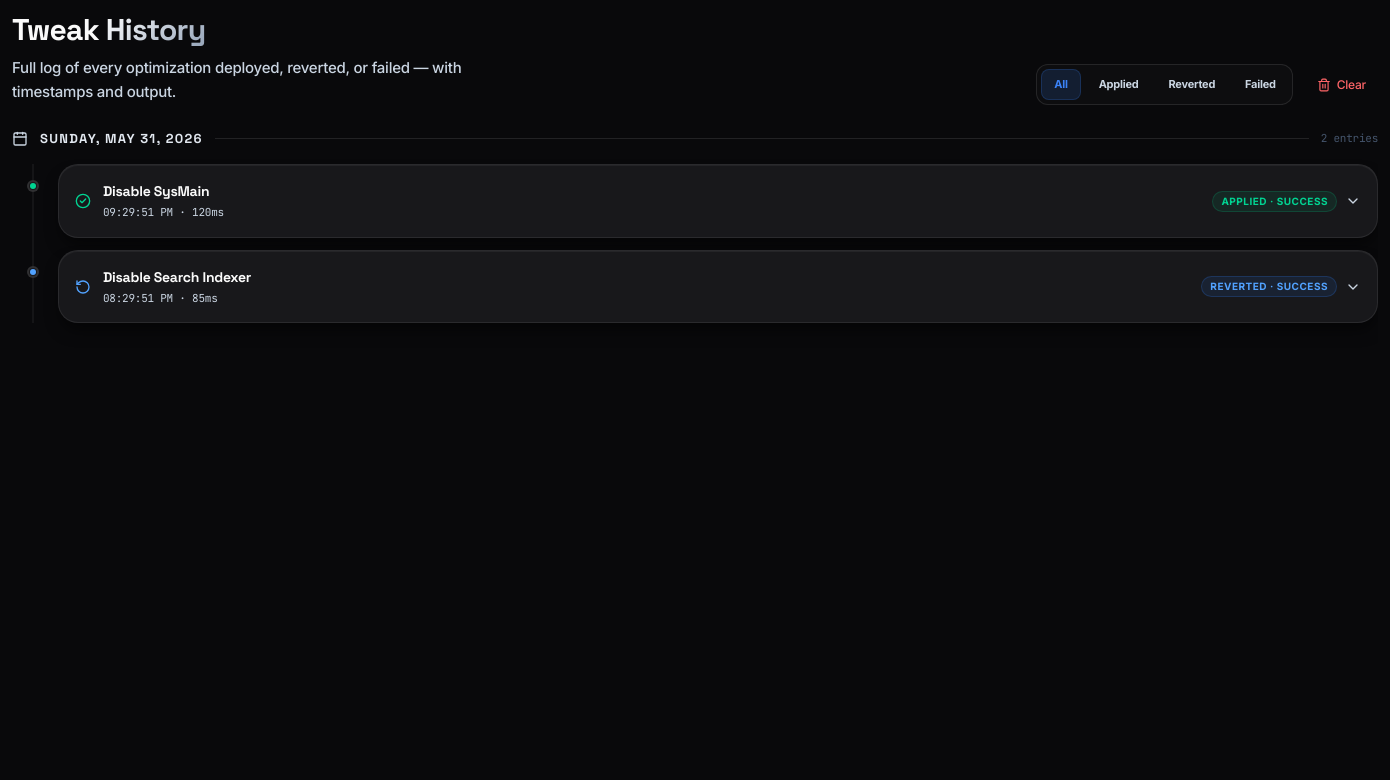
Test: HistoryPage › clicking an entry expands command details
Click the heading "Disable SysMain": (163, 192) x1=103 y1=181 x2=224 y2=202
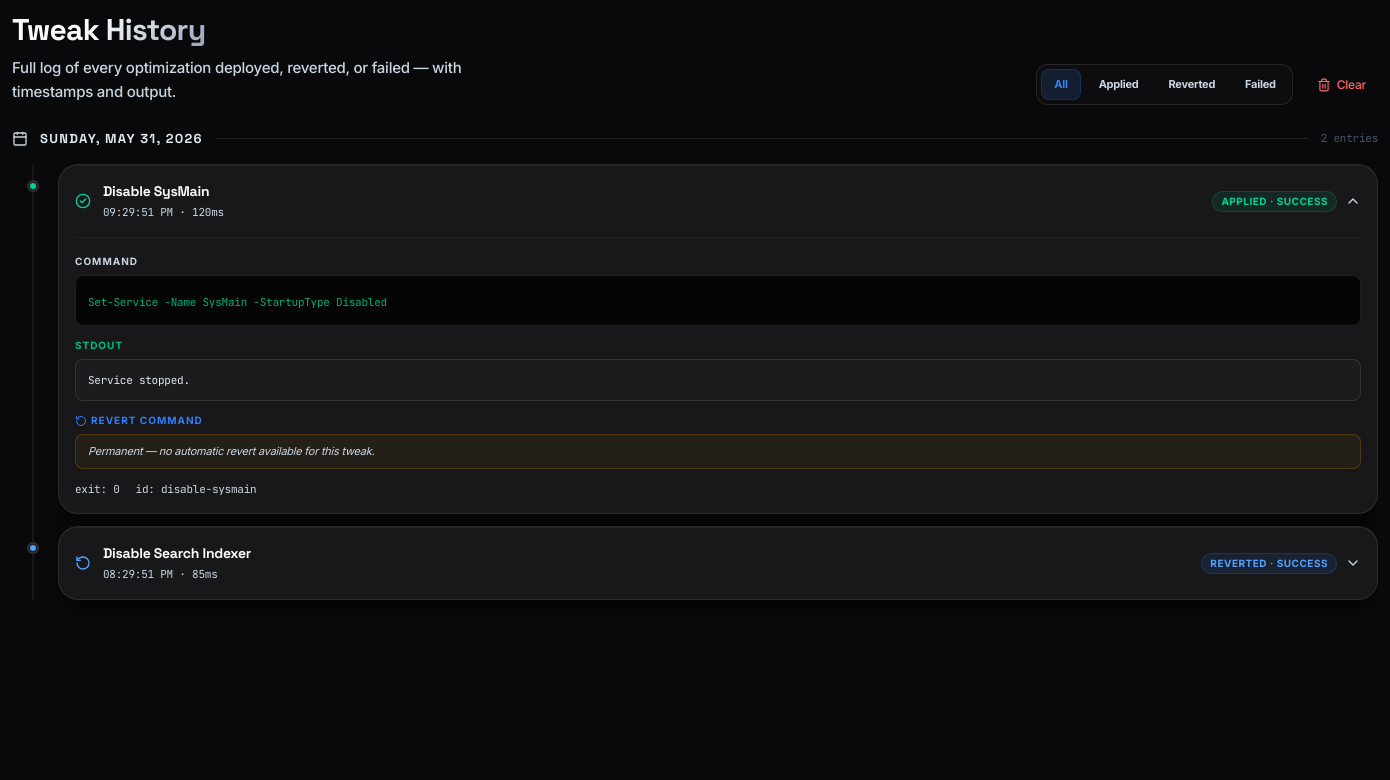
Now the text "Set-Service -Name SysMain -StartupType Disabled" is shown, box x1=88 y1=295 x2=387 y2=309
